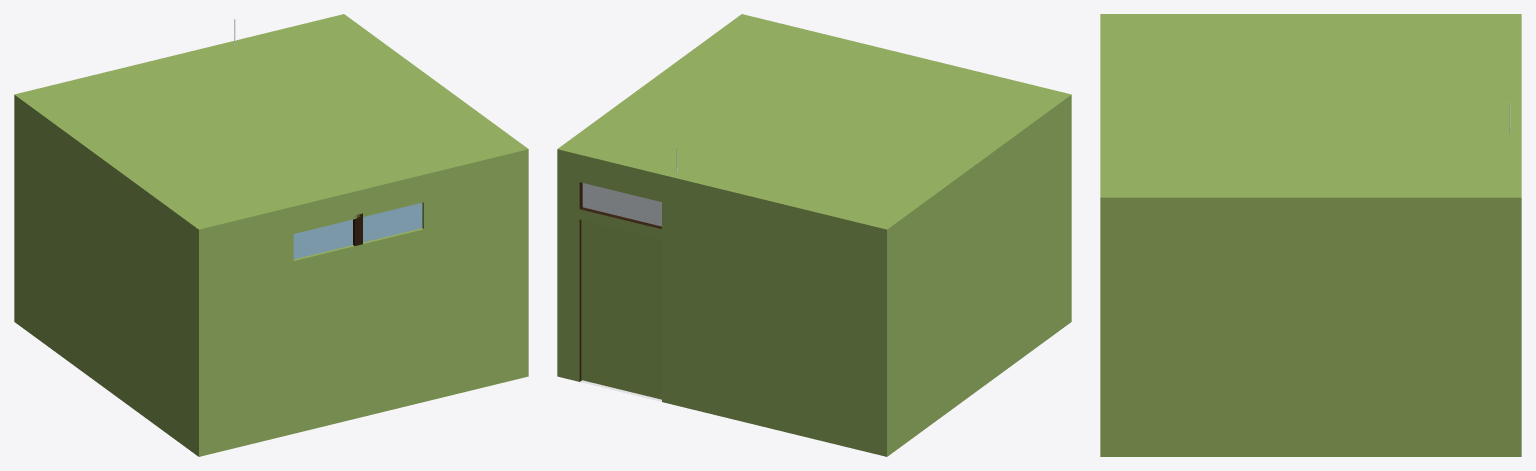
File: kamar v4.fbx
The picture shows the model from 3 angles, left to right: view 1: azimuth 30°, elevation 25°; view 2: azimuth 150°, elevation 25°; view 3: azimuth 270°, elevation 25°; orthographic projection. The views are drawn at different scales.
Visible parts, largest first — view 1: Cube.014; view 2: Cube.014, Cube.013; view 3: Cube.014.
Boxes of the visible parts, x1=… form: Cube.014: x1=14, y1=14, x2=528, y2=456; Cube.014: x1=557, y1=14, x2=1071, y2=456; Cube.013: x1=581, y1=220, x2=661, y2=399; Cube.014: x1=1100, y1=14, x2=1521, y2=456.
Bounding box in the file's own units: 3345 × 2475 × 3243.
